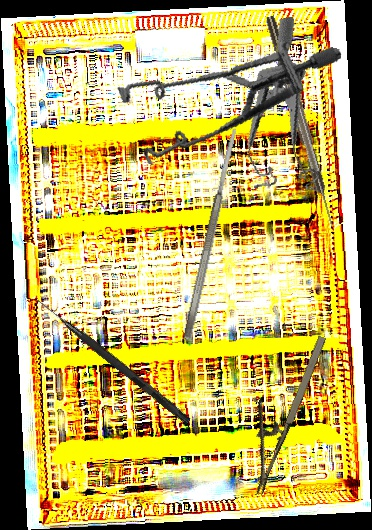Hook Surgical: (33, 297, 193, 425), (265, 14, 337, 229)
Needle Holder: (224, 324, 331, 496)
Spatula Surgical: (181, 126, 241, 341)
Speculum: (102, 2, 343, 201), (218, 16, 333, 204)
